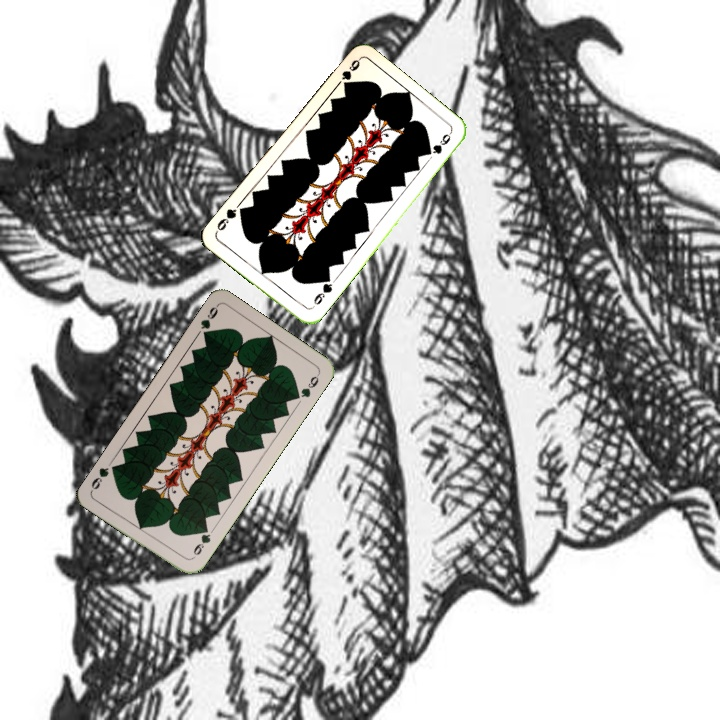G9: (307, 274, 335, 311), (187, 523, 213, 561), (196, 302, 221, 341), (337, 55, 363, 89)
